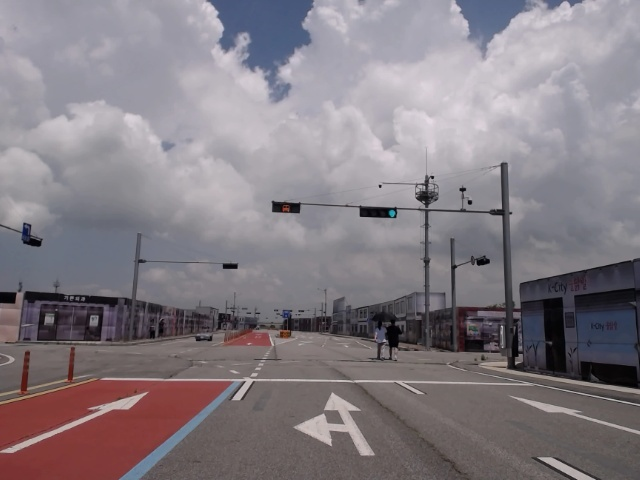straight_green_4: (361, 207, 395, 218)
